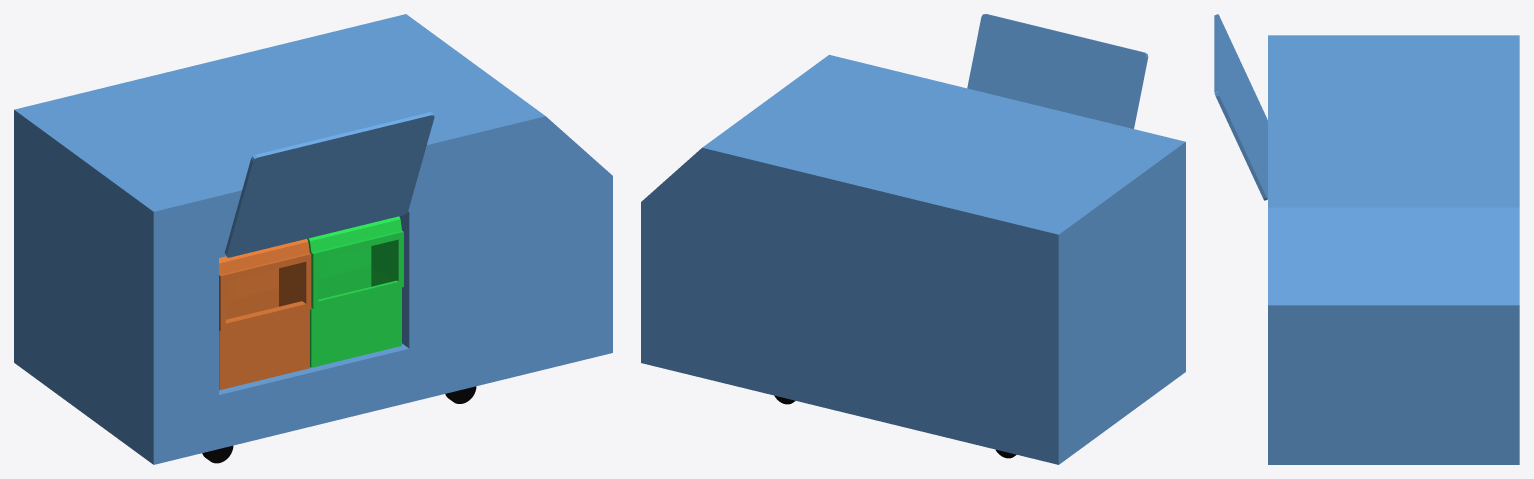
File: TimeTravelGarbageBin.fbx
3 views of the same model, side by side, from view 1: azimuth 30°, elevation 25°; view 2: azimuth 150°, elevation 25°; view 3: azimuth 270°, elevation 25° (orthographic). The views are drawn at different scales.
Visible parts, largest first — view 1: Cube, Cube.001, Cube.003, Cube.005, Cube.004; view 2: Cube, Cube.001; view 3: Cube, Cube.001.
Boxes of the visible parts, bbox=[...] form: Cube: bbox=[14, 14, 612, 464]; Cube.001: bbox=[224, 112, 434, 257]; Cube.003: bbox=[307, 216, 403, 367]; Cube.005: bbox=[219, 239, 311, 390]; Cube.004: bbox=[202, 386, 476, 463]; Cube: bbox=[641, 54, 1185, 464]; Cube.001: bbox=[967, 14, 1148, 128]; Cube: bbox=[1268, 35, 1519, 464]; Cube.001: bbox=[1214, 14, 1267, 200].
Bounding box in the file's own units: 751 × 525 × 480.
